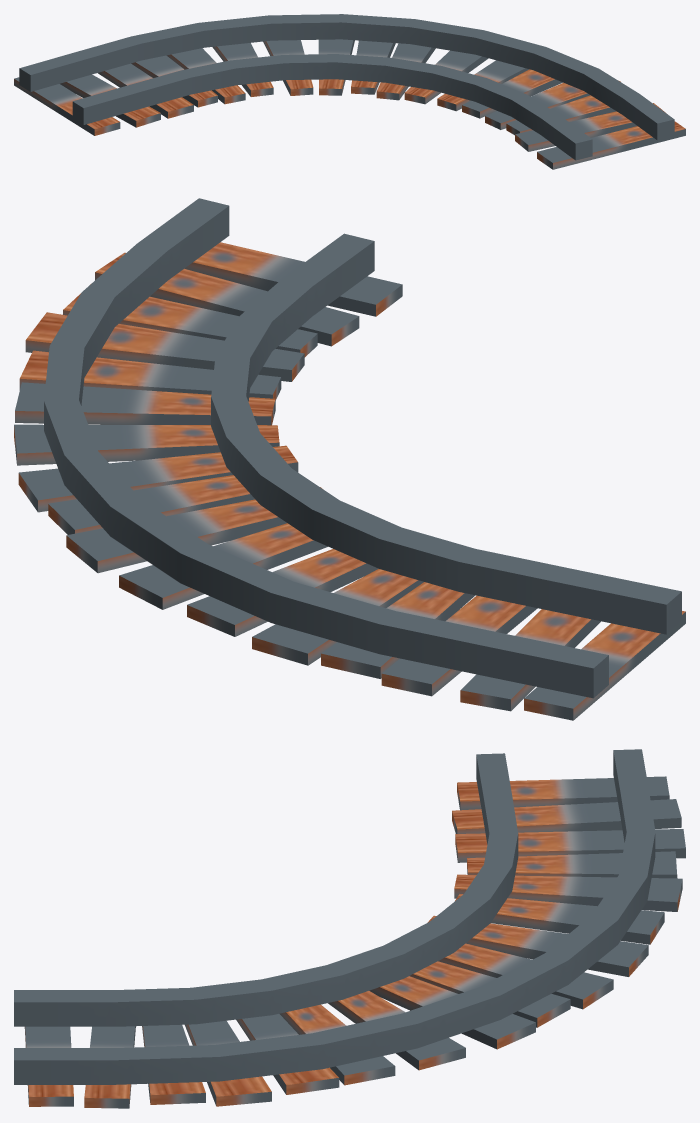
The model's file is long_turn_l_1.fbx.
3 views of the same model, one above another, from view 1: azimuth 30°, elevation 25°; view 2: azimuth 150°, elevation 25°; view 3: azimuth 270°, elevation 25° (orthographic). The views are drawn at different scales.
Parts seen in each view (by area): view 1: long_turn_l_1; view 2: long_turn_l_1; view 3: long_turn_l_1.
Part boxes in pixels (x1,y1,x2,y2): long_turn_l_1: [14, 14, 685, 169]; long_turn_l_1: [14, 198, 685, 720]; long_turn_l_1: [14, 749, 685, 1108].
Bounding box in the file's own units: 41.43 × 2.08 × 36.27.
